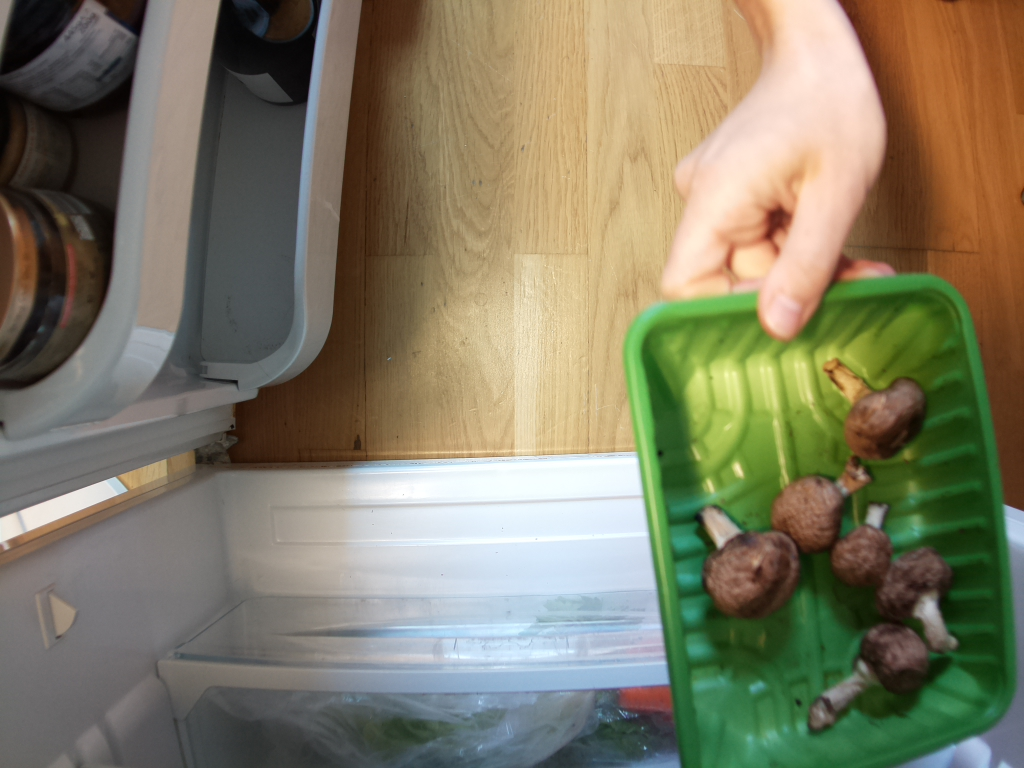mushrooms-bad: (625, 276, 1022, 768)
